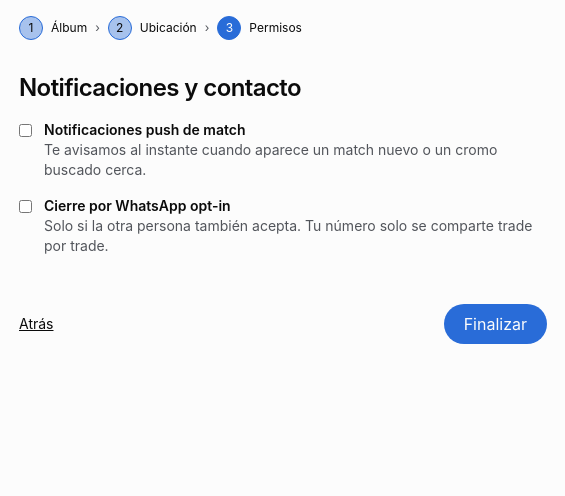
it: OnboardingWizard › shows the validation error when WhatsApp opt-in lacks a number on submit
Click the checkbox with test id "whatsapp-optin-toggle". click: (26, 206)
box: [19,200,32,213]
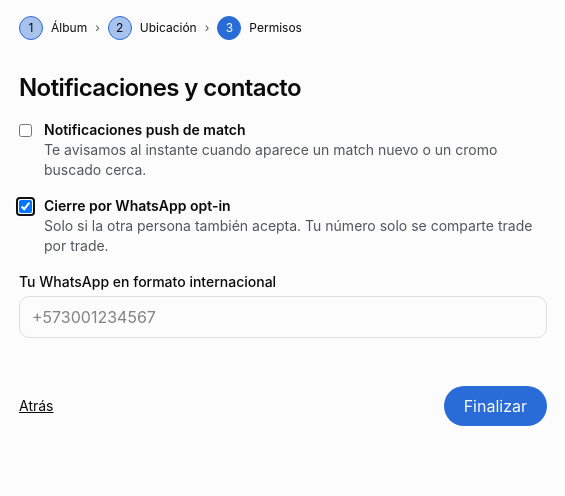
Click the button with test id "onboarding-next". click: (495, 406)
box: [444,386,547,426]
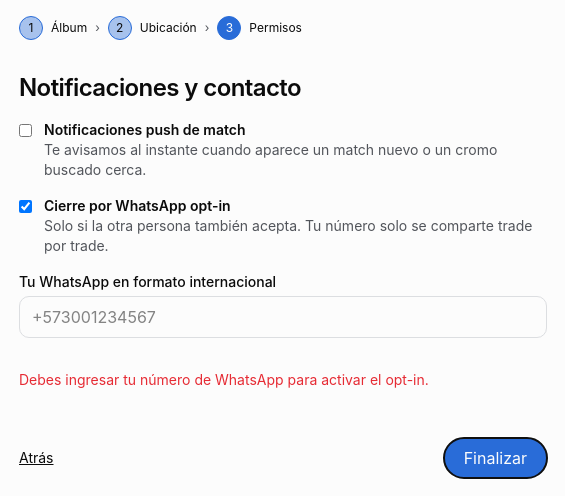
Now the message with test id "onboarding-error" shows "WhatsApp", box [19,371,429,388]
